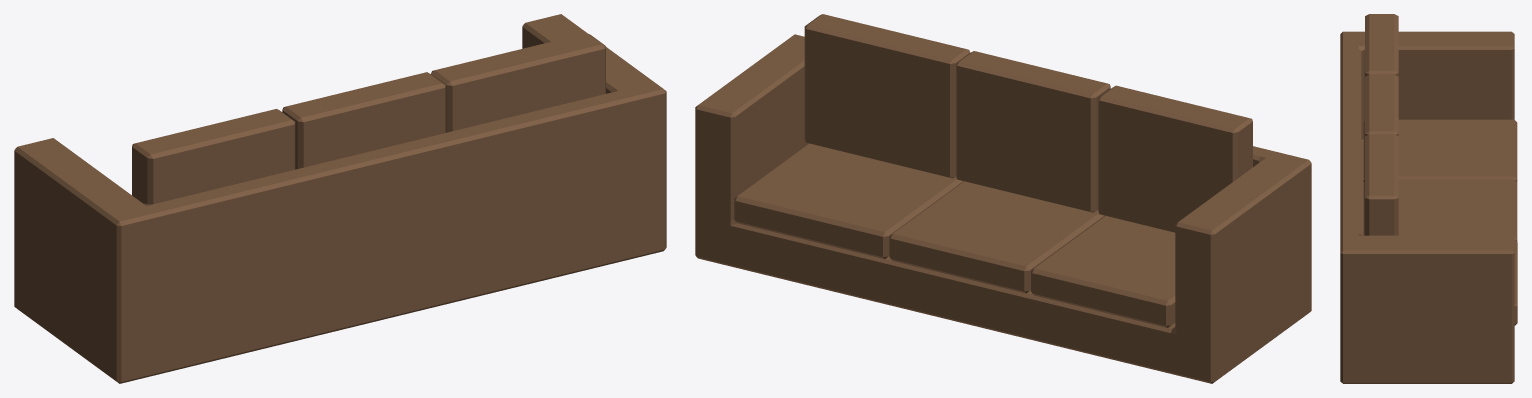
Rendered from sofa2.gltf.
3 renders of one model, left to right at view 1: azimuth 30°, elevation 25°; view 2: azimuth 150°, elevation 25°; view 3: azimuth 270°, elevation 25°, orthographic. The views are drawn at different scales.
Visible parts, largest first — view 1: Cube.001; view 2: Cube.001; view 3: Cube.001.
Boxes of the visible parts, <box> form: Cube.001: <box>14,14,666,383</box>; Cube.001: <box>695,14,1311,383</box>; Cube.001: <box>1340,14,1517,383</box>.
Bounding box in the file's own units: 6 × 2.15 × 2.04.
1 material, 1 textured.
